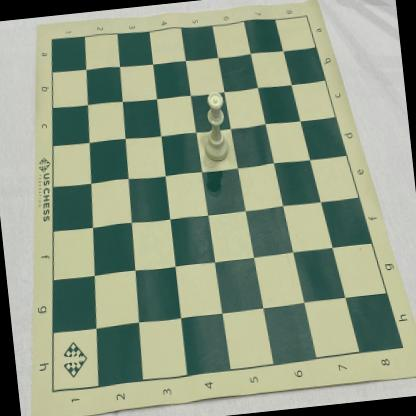white-queen: (198, 89, 230, 164)
